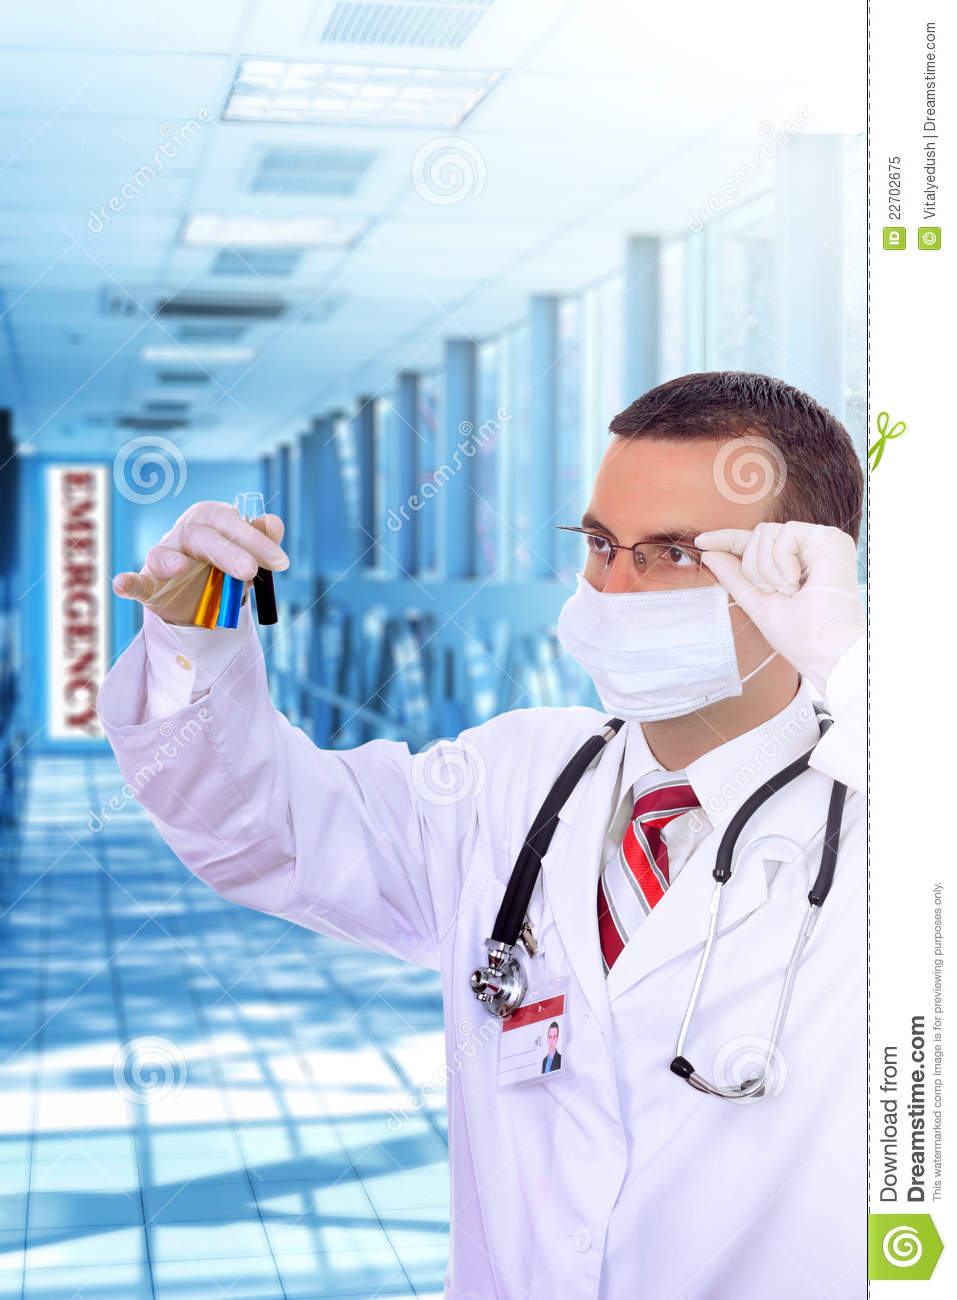mask: (546, 565, 766, 725)
